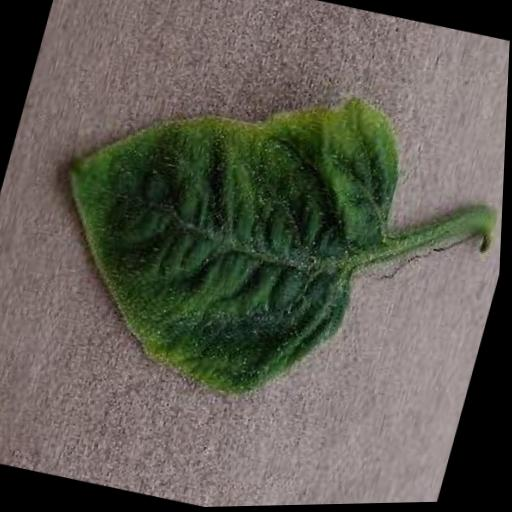Yellow Leaf Curl Virus: (13, 36, 427, 428)
